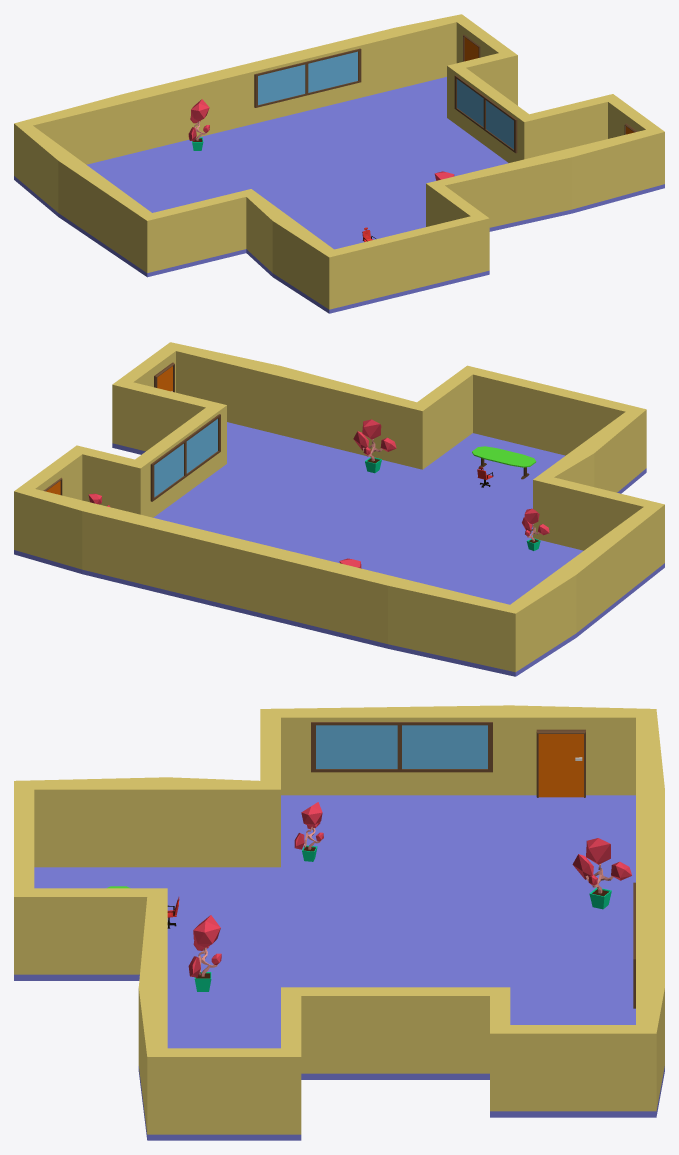
File: office (1).fbx
The picture shows the model from 3 angles, top to bottom: view 1: azimuth 30°, elevation 25°; view 2: azimuth 150°, elevation 25°; view 3: azimuth 270°, elevation 25°; orthographic projection. The views are drawn at different scales.
Visible parts, largest first — view 1: dal1, cam2, cam3, dal3; view 2: dal1, cam3, dal, masa, dal4; view 3: dal1, cam1, dal3, dal, dal4.
Part boxes in pixels (x1,y1,x2,y2): dal1: (14, 14, 664, 313); cam2: (254, 48, 361, 107); cam3: (454, 75, 517, 153); dal3: (188, 99, 209, 150); dal1: (14, 342, 664, 676); cam3: (150, 414, 220, 501); dal: (353, 419, 396, 473); masa: (472, 446, 536, 479); dal4: (522, 508, 549, 550); dal1: (14, 705, 664, 1140); cam1: (311, 722, 492, 772); dal3: (572, 838, 631, 909); dal: (188, 915, 221, 991); dal4: (294, 802, 323, 861).
Bounding box in the file's own units: 3970 × 441 × 3108.
